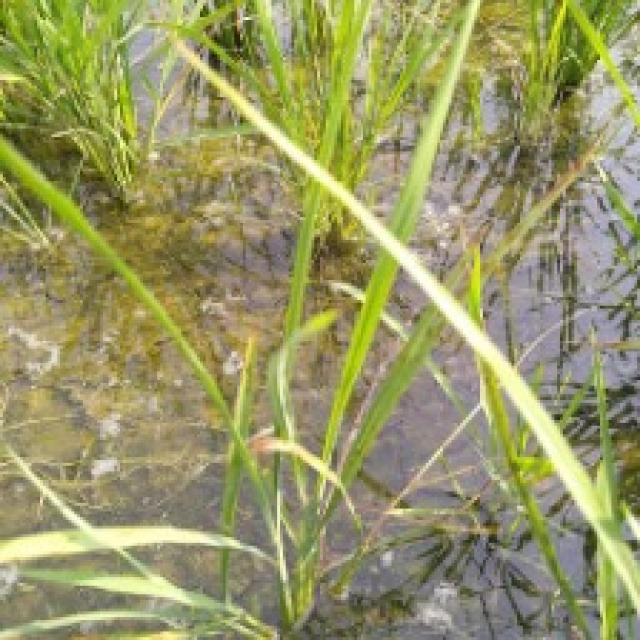Rice___Brown_Spot: (177, 40, 637, 618)
